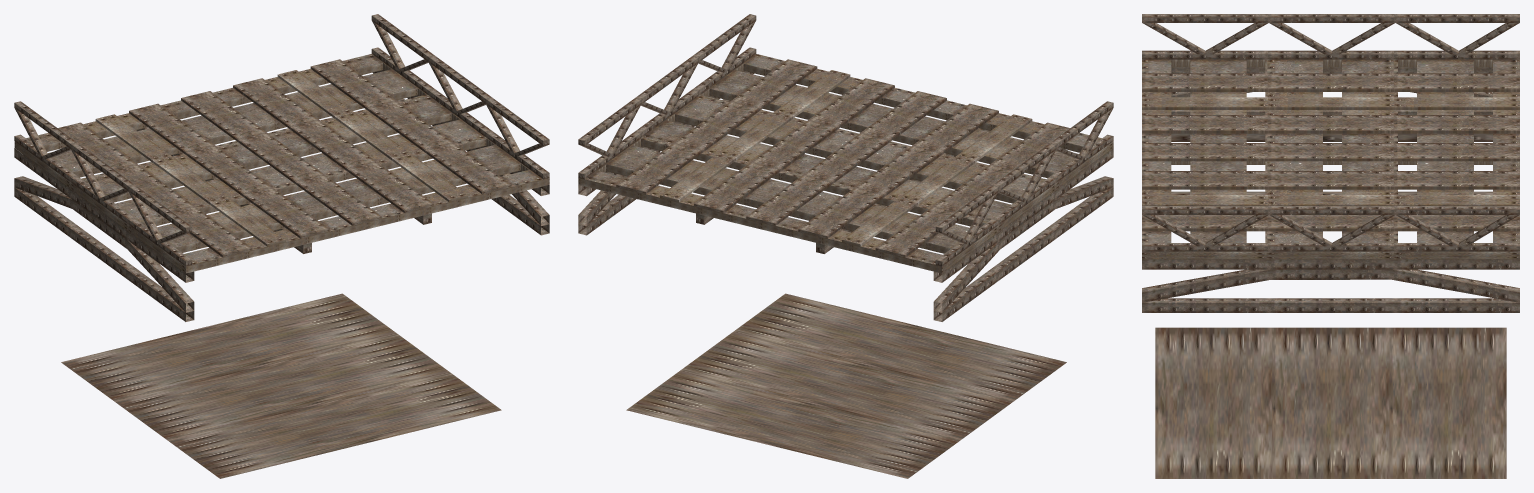
Rendered from C3SMBDGMET_E26H.obj.
3 views of the same model, side by side, from view 1: azimuth 30°, elevation 25°; view 2: azimuth 150°, elevation 25°; view 3: azimuth 270°, elevation 25° (orthographic). The views are drawn at different scales.
Parts seen in each view (by area): view 1: Node 0; view 2: Node 0; view 3: Node 0.
Part boxes in pixels (x1,y1,x2,y2): Node 0: (14,14,549,478); Node 0: (578,14,1113,478); Node 0: (1142,14,1519,478).
Size of the model in its own units: 30.92 by 21.52 by 25.24.
Materials: 1 (1 with a texture image).
